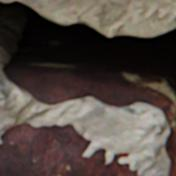brick: (0, 122, 139, 175), (167, 170, 173, 175)
crack: (0, 1, 175, 175)
